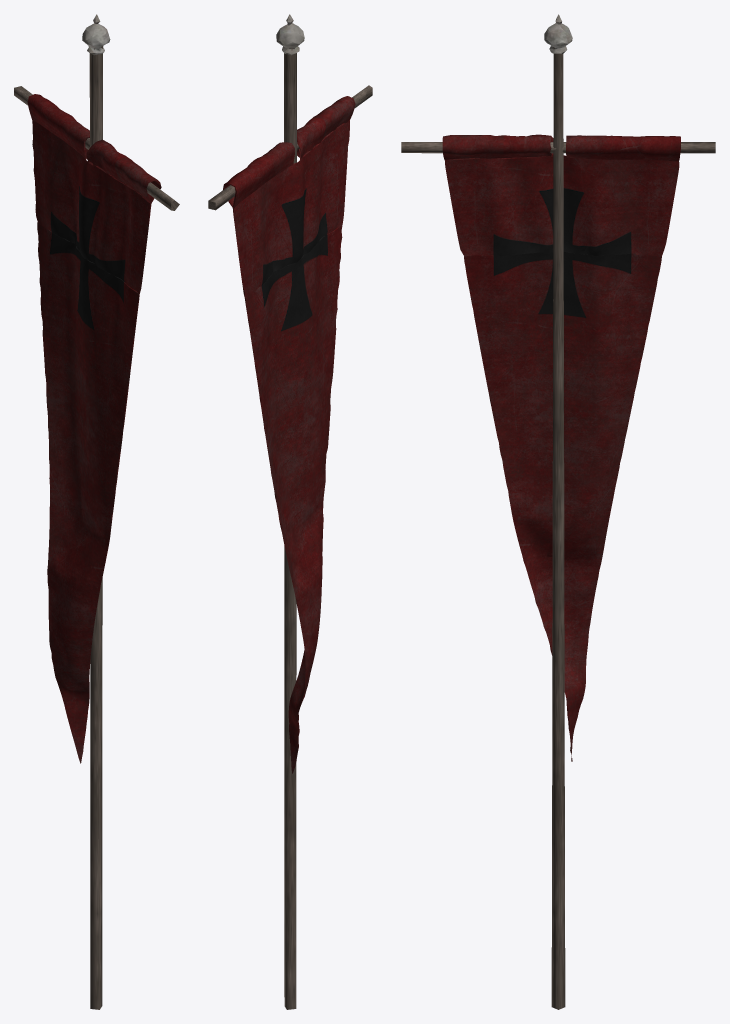
File: Flag_B_Long_001.fbx
3 renders of one model, left to right at view 1: azimuth 30°, elevation 25°; view 2: azimuth 150°, elevation 25°; view 3: azimuth 270°, elevation 25°, orthographic.
Parts seen in each view (by area): view 1: Flag_B_Long_001; view 2: Flag_B_Long_001; view 3: Flag_B_Long_001.
Part boxes in pixels (x1=…): Flag_B_Long_001: x1=14, y1=14, x2=179, y2=1009; Flag_B_Long_001: x1=208, y1=14, x2=372, y2=1009; Flag_B_Long_001: x1=401, y1=14, x2=715, y2=1009.
Bounding box in the file's own units: 23.54 × 508 × 146.
Materials: 1 (1 with a texture image).
